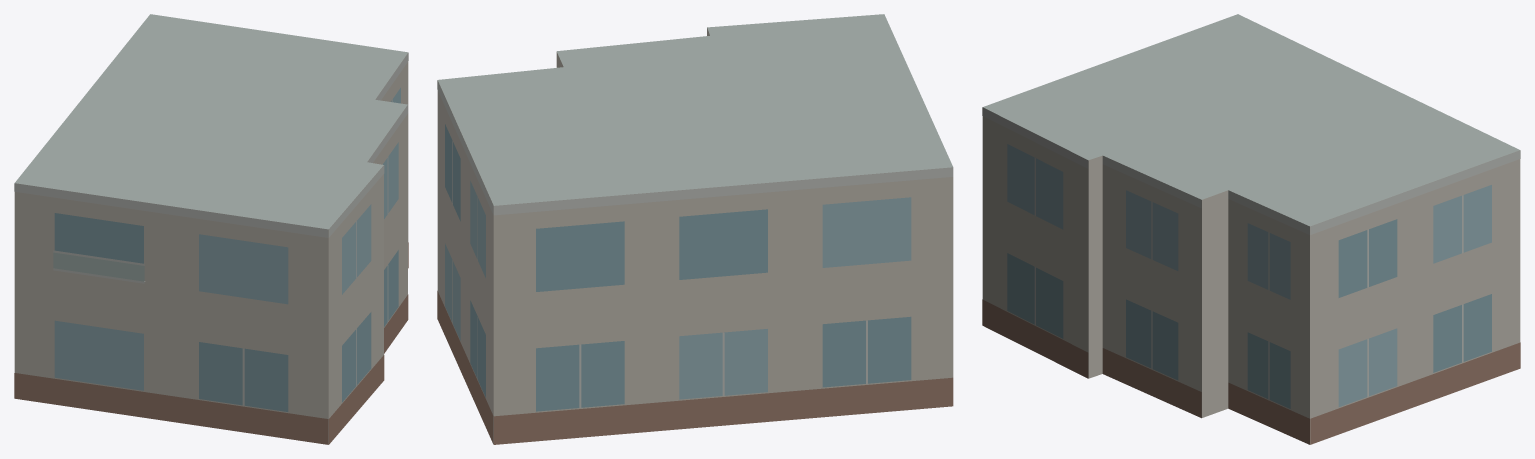
Rendered from survey-upis-32771636.glb.
3 views of the same model, side by side, from view 1: azimuth 30°, elevation 25°; view 2: azimuth 150°, elevation 25°; view 3: azimuth 270°, elevation 25° (orthographic). The views are drawn at different scales.
Visible parts, largest first — view 1: survey-upis-32771636.tmp; view 2: survey-upis-32771636.tmp; view 3: survey-upis-32771636.tmp.
Boxes of the visible parts, x1,y1,x2,y2 form: survey-upis-32771636.tmp: (14, 14, 408, 444); survey-upis-32771636.tmp: (437, 14, 953, 444); survey-upis-32771636.tmp: (982, 14, 1520, 444).
Size of the model in its own units: 12.74 by 6.1 by 13.62.
